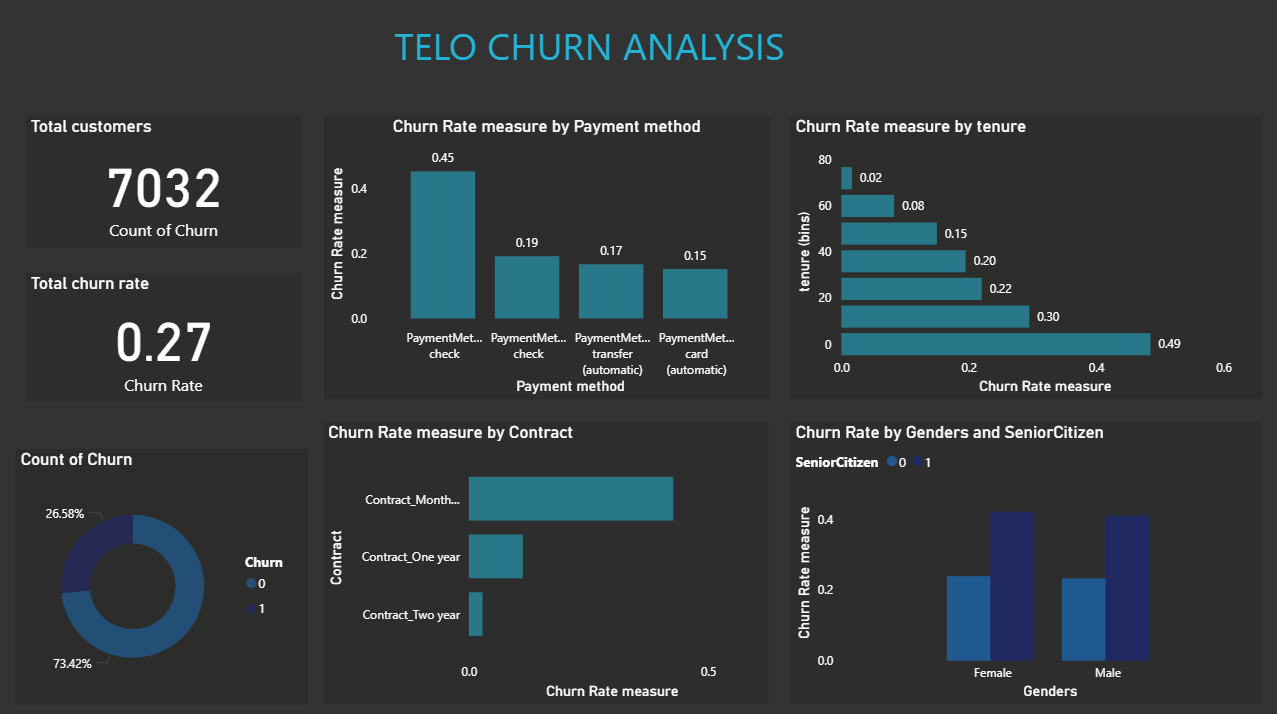

Layout of this report page (visuals, bound fields, positions):
{"tool":"powerbi","page":{"name":"Page 1","canvas":[1280,720],"ordinal":0},"visuals":[{"type":"card","title":"Total customers","fields":{"Values":["CountNonNull(churn_analysis_final.Churn)"]},"box":[43.9,152.3,242.9,81],"z":0},{"type":"textbox","box":[304.6,17.8,575,70],"z":1000},{"type":"card","title":"Total churn rate","fields":{"Values":["churn_analysis_final.Churn Rate"]},"box":[42.5,262.1,244.3,74.1],"z":2000},{"type":"clusteredColumnChart","fields":{"Y":["churn_analysis_final.Churn Rate measure"],"Category":["churn_analysis_final.Payment method"]},"box":[333.4,107,385.6,252.5],"z":3000},{"type":"clusteredBarChart","fields":{"Y":["churn_analysis_final.Churn Rate measure"],"Category":["churn_analysis_final.Contract"]},"box":[754.7,107,439.1,252.5],"z":4000},{"type":"clusteredBarChart","title":"Churn Rate measure by tenure ","fields":{"Category":["churn_analysis_final.tenure (bins)"],"Y":["churn_analysis_final.Churn Rate measure"]},"box":[24.7,388.3,382.8,234.6],"z":5000},{"type":"donutChart","title":"Count of Churn","fields":{"Category":["churn_analysis_final.Churn"],"Y":["CountNonNull(churn_analysis_final.Churn)"]},"box":[426.8,388.3,292.3,255.2],"z":6000},{"type":"clusteredColumnChart","fields":{"Y":["Sum(churn_analysis_final.SeniorCitizen)"],"Category":["churn_analysis_final.gender_Female"]},"box":[812.4,419.9,242.9,149.6],"z":7000}]}

Visuals, with their boxes in screenshot pixels (x1, y1, x2, y2), scaled from the page's 1280x720 canvas onto the 1277x714 screenshot:
"Total customers" card: bbox(44, 151, 286, 231)
textbox: bbox(304, 18, 878, 87)
"Total churn rate" card: bbox(42, 260, 286, 333)
clusteredColumnChart - churn_analysis_final.Churn Rate measure x churn_analysis_final.Payment method: bbox(333, 106, 717, 357)
clusteredBarChart - churn_analysis_final.Churn Rate measure x churn_analysis_final.Contract: bbox(753, 106, 1191, 357)
"Churn Rate measure by tenure " clusteredBarChart: bbox(25, 385, 407, 618)
"Count of Churn" donutChart: bbox(426, 385, 717, 638)
clusteredColumnChart - Sum(churn_analysis_final.SeniorCitizen) x churn_analysis_final.gender_Female: bbox(810, 416, 1053, 565)
